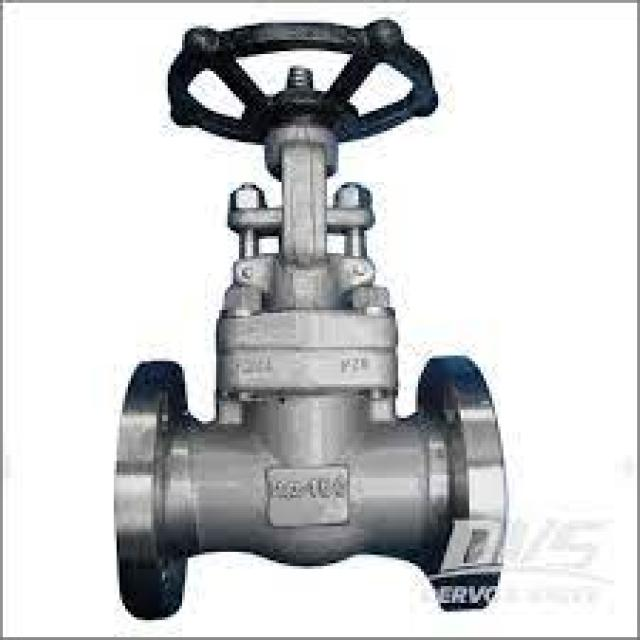Wheel Handle Valve Threaded: (102, 4, 456, 191)
